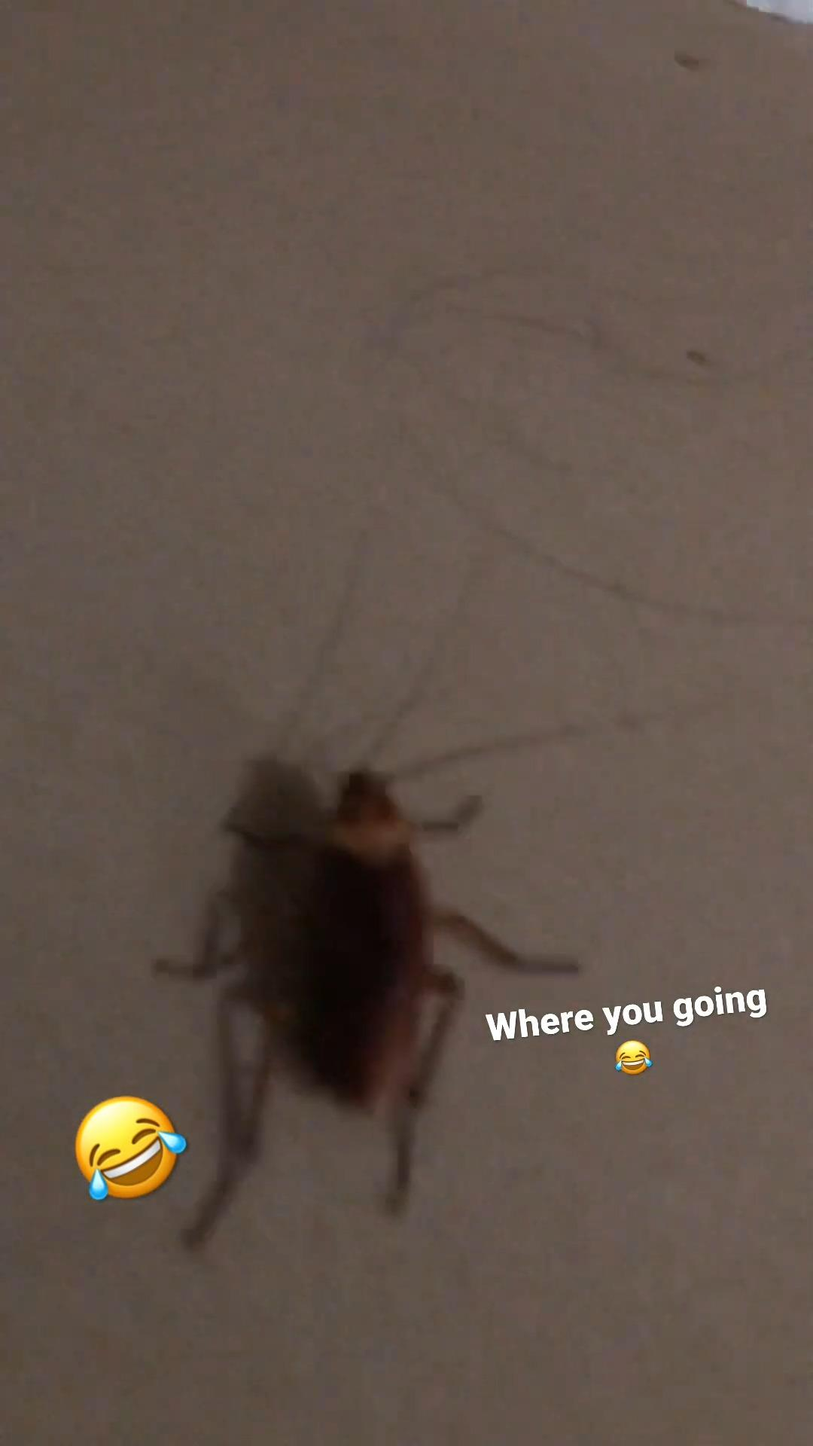cockroach: (196, 701, 514, 983)
